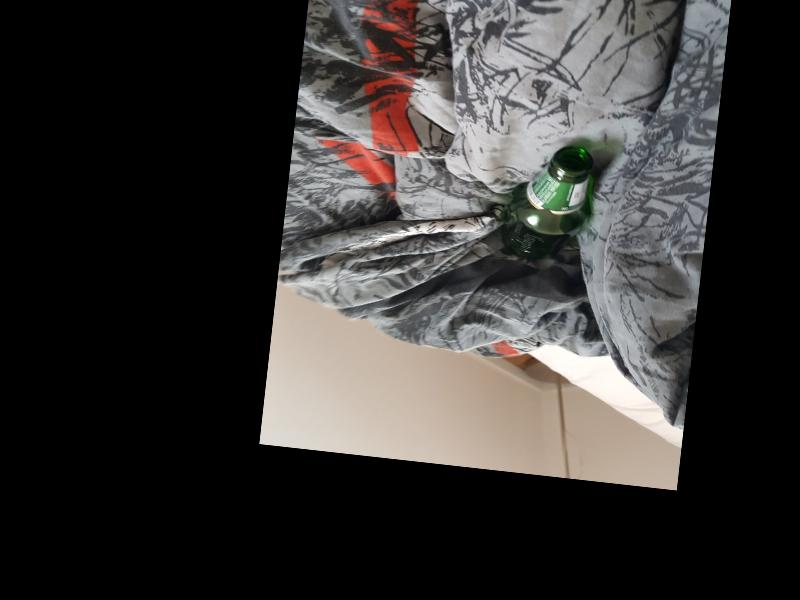Beer: (499, 139, 598, 266)
